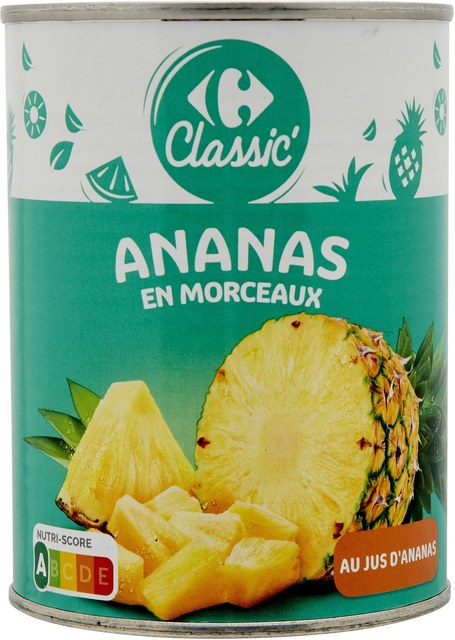Ananas en morceaux: (23, 32, 432, 608)
